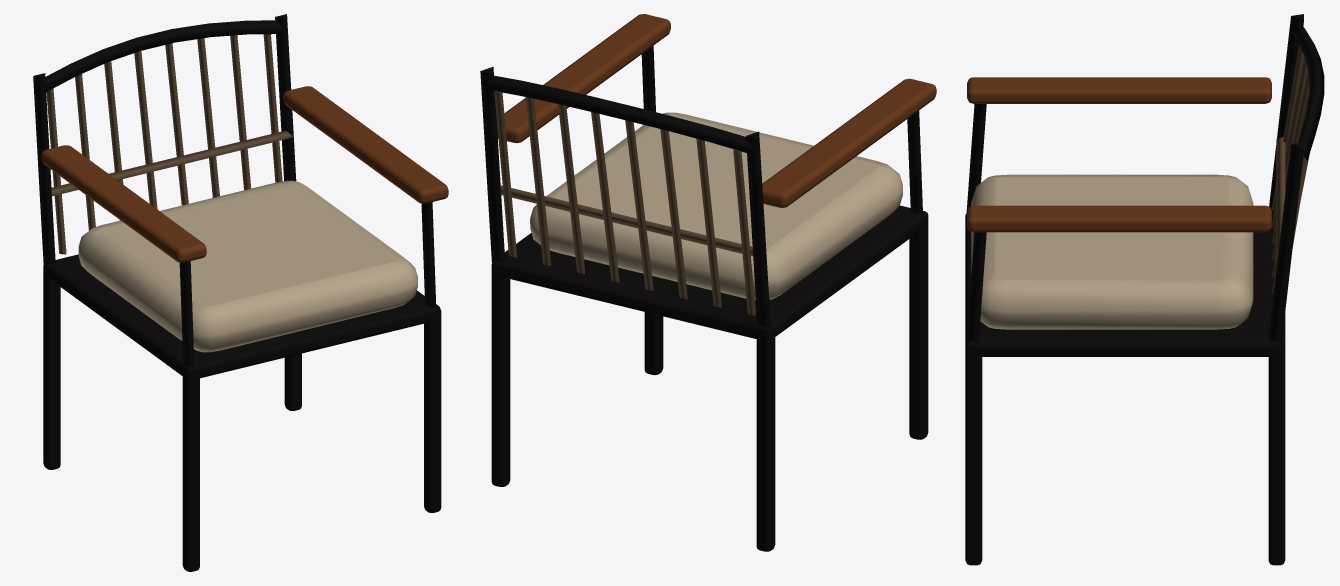
File: woven-dining-chair-lod2.glb
3 renders of one model, left to right at view 1: azimuth 30°, elevation 25°; view 2: azimuth 150°, elevation 25°; view 3: azimuth 270°, elevation 25°, orthographic. The views are drawn at different scales.
Parts seen in each view (by area): view 1: Oatmeal performance fabric, Powder-coated bronze aluminium, Oiled teak, Woven taupe rope; view 2: Powder-coated bronze aluminium, Oatmeal performance fabric, Woven taupe rope, Oiled teak; view 3: Oatmeal performance fabric, Powder-coated bronze aluminium, Oiled teak, Woven taupe rope.
Part boxes in pixels (box(x1,y1,x2,y2)): Oatmeal performance fabric: box(78, 180, 417, 352); Powder-coated bronze aluminium: box(33, 14, 441, 571); Oiled teak: box(41, 86, 448, 262); Woven taupe rope: box(46, 34, 292, 254); Powder-coated bronze aluminium: box(480, 46, 928, 551); Oatmeal performance fabric: box(530, 112, 902, 300); Woven taupe rope: box(494, 91, 755, 315); Oiled teak: box(496, 14, 936, 207); Oatmeal performance fabric: box(971, 174, 1253, 329); Powder-coated bronze aluminium: box(965, 14, 1324, 565); Oiled teak: box(967, 77, 1271, 232); Woven taupe rope: box(1271, 45, 1309, 309).
Bounding box in the file's own units: 0.5969 × 0.823 × 0.6292.
